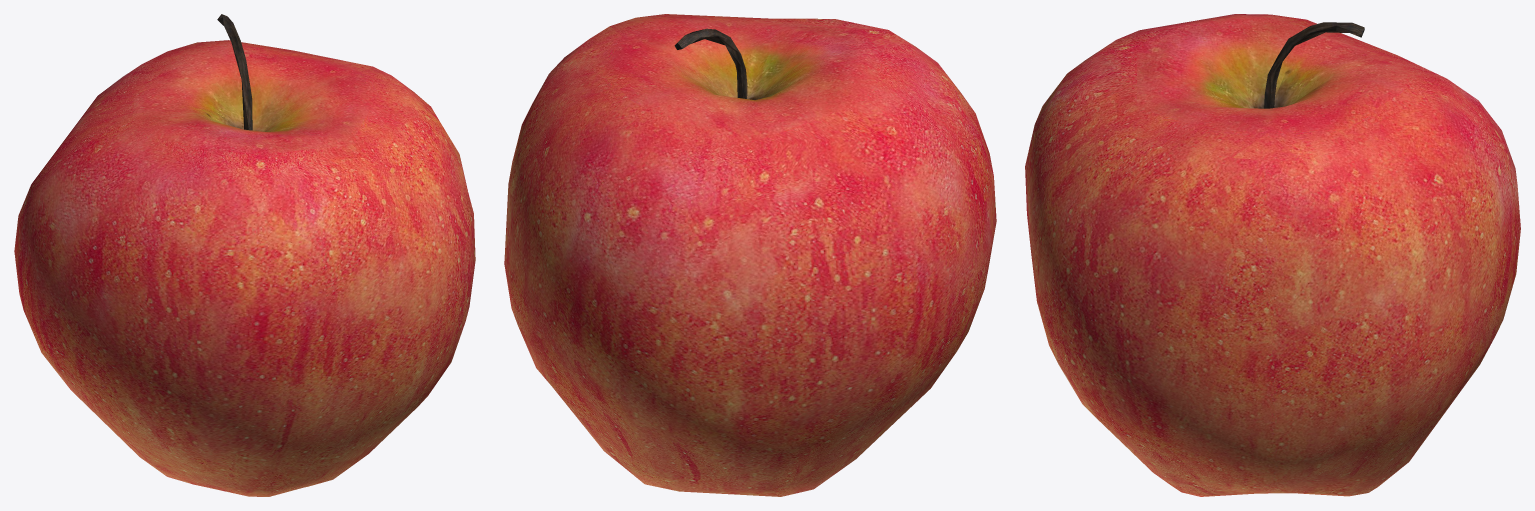
Rendered from Apple.FBX.
3 views of the same model, side by side, from view 1: azimuth 30°, elevation 25°; view 2: azimuth 150°, elevation 25°; view 3: azimuth 270°, elevation 25° (orthographic). The views are drawn at different scales.
Parts seen in each view (by area): view 1: Apple; view 2: Apple; view 3: Apple.
Part boxes in pixels (x1,y1,x2,y2): Apple: (14,14,475,496); Apple: (504,14,996,496); Apple: (1025,14,1520,496).
Size of the model in its own units: 7.53 by 7.82 by 7.64.
Materials: 1 (1 with a texture image).
